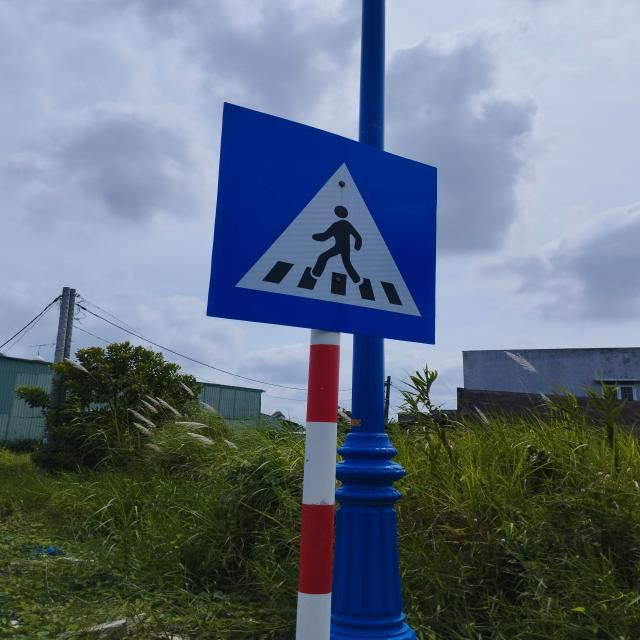Giao_Nhau_Duong_Uu_Tien: (205, 102, 437, 344)
